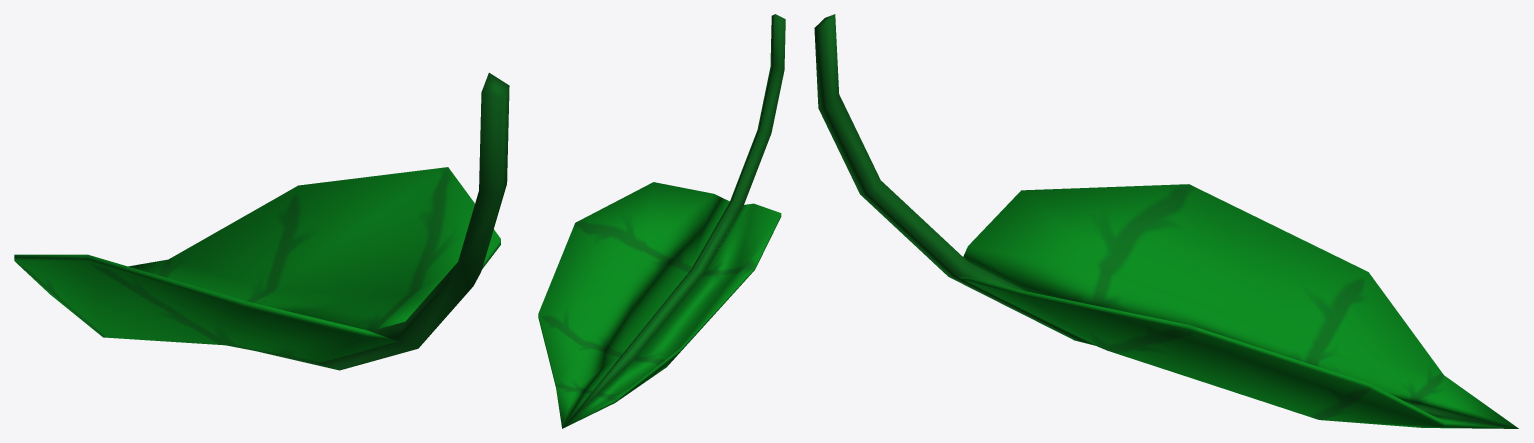
The model's file is Food1v4.dae.
The picture shows the model from 3 angles, left to right: view 1: azimuth 30°, elevation 25°; view 2: azimuth 150°, elevation 25°; view 3: azimuth 270°, elevation 25°; orthographic projection. The views are drawn at different scales.
Visible parts, largest first — view 1: Cube_001; view 2: Cube_001; view 3: Cube_001.
Boxes of the visible parts, left/top/right/bottom form: Cube_001: left=14, top=72, right=509, bottom=370; Cube_001: left=538, top=14, right=785, bottom=428; Cube_001: left=814, top=14, right=1518, bottom=428.
Bounding box in the file's own units: 0.7677 × 1.63 × 1.06.
1 material, 1 textured.
